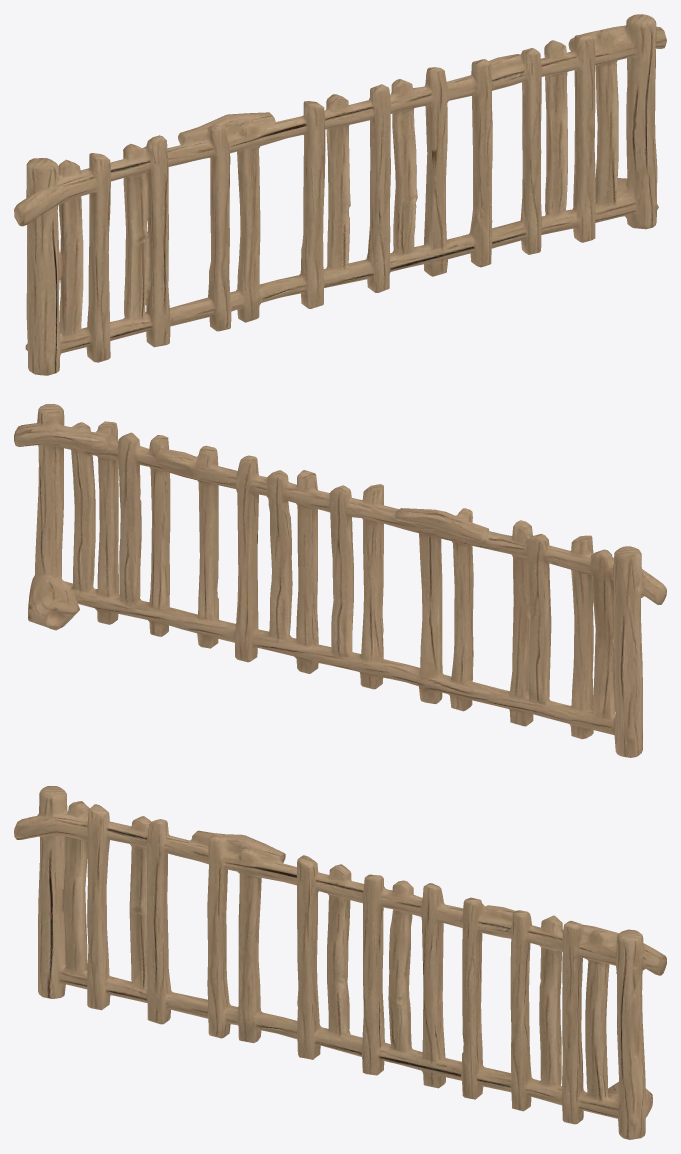
File: prop-wooden-fence.glb
The picture shows the model from 3 angles, top to bottom: view 1: azimuth 30°, elevation 25°; view 2: azimuth 150°, elevation 25°; view 3: azimuth 330°, elevation 25°; orthographic projection. The views are drawn at different scales.
Size of the model in its own units: 1.91 by 0.5847 by 0.2084.
1 material, 1 textured.
